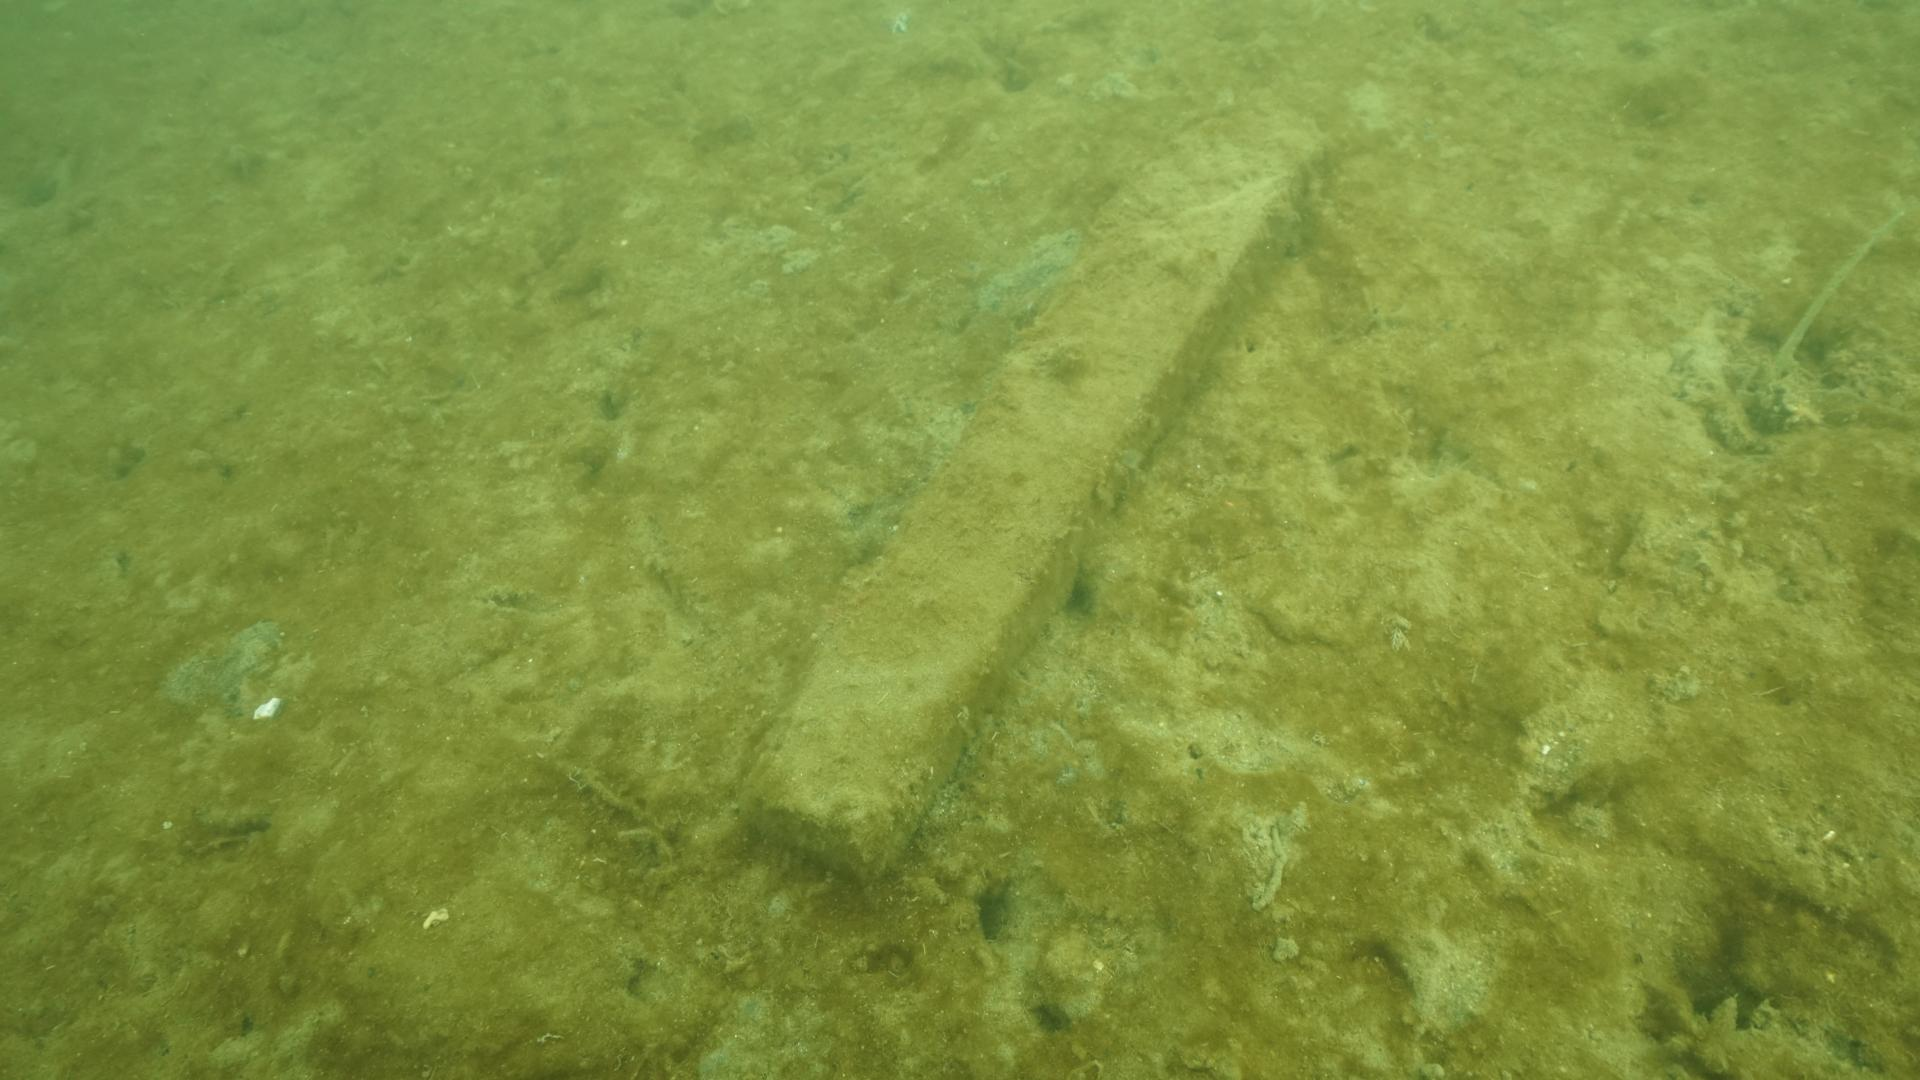wood: (735, 100, 1324, 887)
